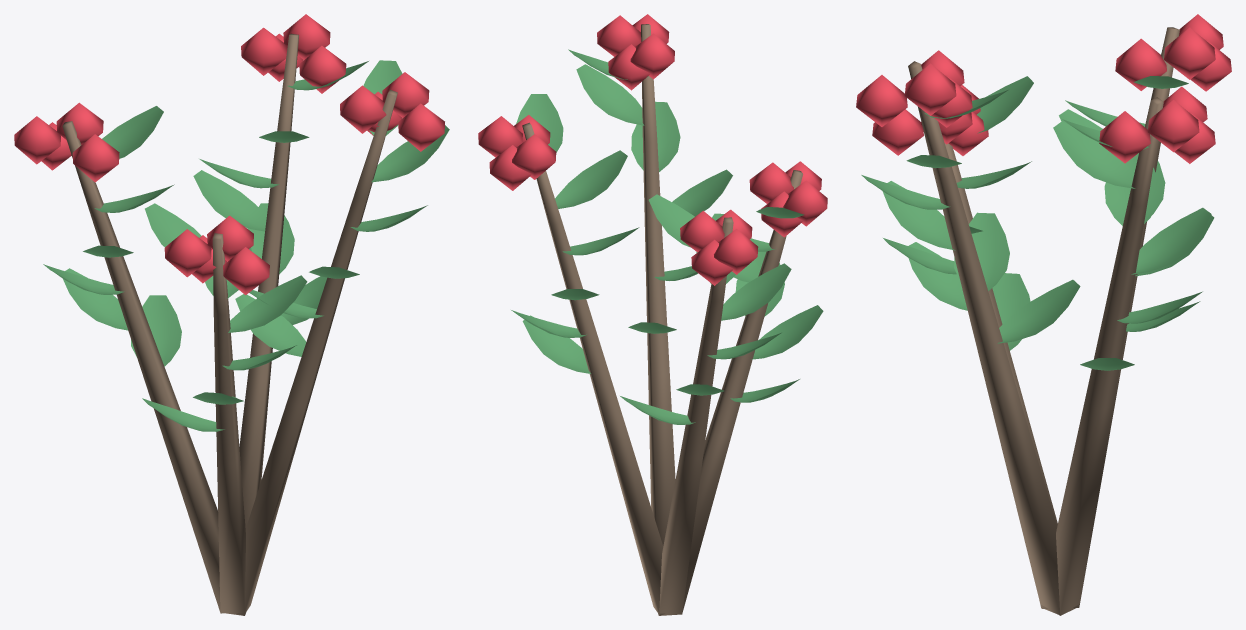
The model's file is shrub_wild_berry.glb.
The picture shows the model from 3 angles, left to right: view 1: azimuth 30°, elevation 25°; view 2: azimuth 150°, elevation 25°; view 3: azimuth 270°, elevation 25°; orthographic projection. The views are drawn at different scales.
Parts seen in each view (by area): view 1: Flora_Wild_Berry; view 2: Flora_Wild_Berry; view 3: Flora_Wild_Berry.
Boxes of the visible parts, <box> form: Flora_Wild_Berry: <box>14,14,449,615</box>; Flora_Wild_Berry: <box>478,14,827,615</box>; Flora_Wild_Berry: <box>856,14,1231,615</box>.
Bounding box in the file's own units: 0.2397 × 0.411 × 0.232.
